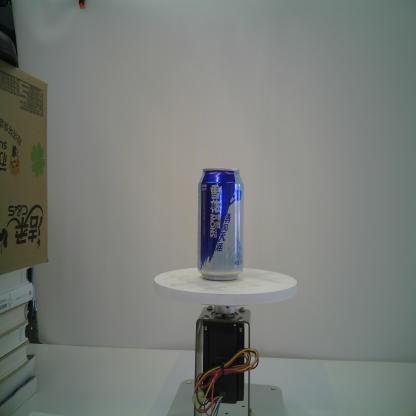Alcohol: (196, 167, 245, 282)
